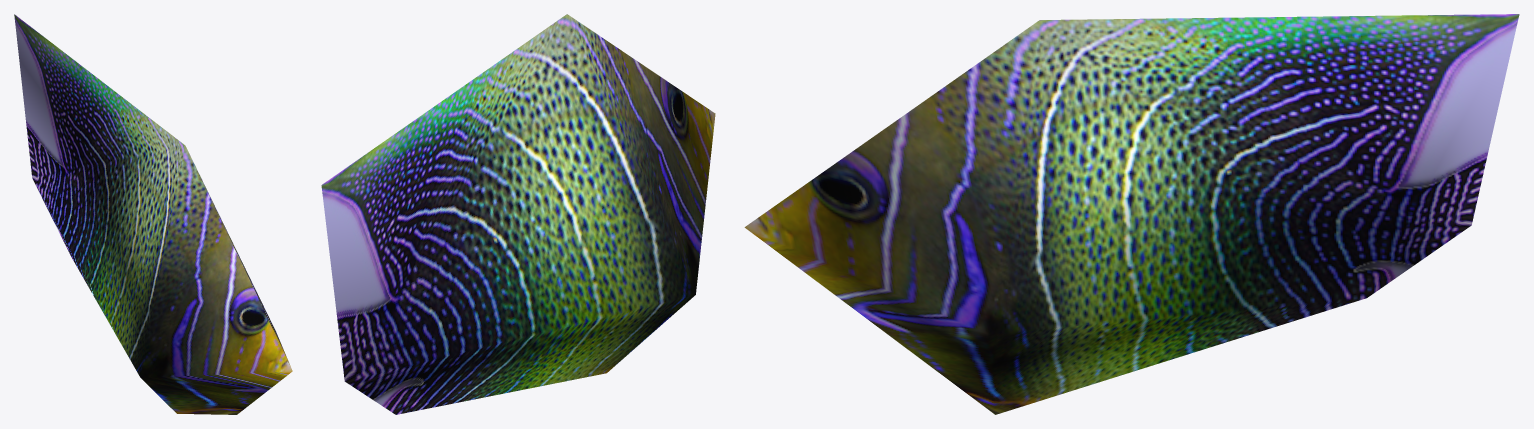
The model's file is TropicalFish15.fbx.
3 views of the same model, side by side, from view 1: azimuth 30°, elevation 25°; view 2: azimuth 150°, elevation 25°; view 3: azimuth 270°, elevation 25° (orthographic). The views are drawn at different scales.
Parts seen in each view (by area): view 1: TropicalFish15_Export; view 2: TropicalFish15_Export; view 3: TropicalFish15_Export.
Boxes of the visible parts, x1,y1,x2,y2 form: TropicalFish15_Export: [14, 14, 292, 414]; TropicalFish15_Export: [321, 14, 715, 414]; TropicalFish15_Export: [744, 14, 1519, 414].
Bounding box in the file's own units: 0.0803 × 0.1486 × 0.2763.
